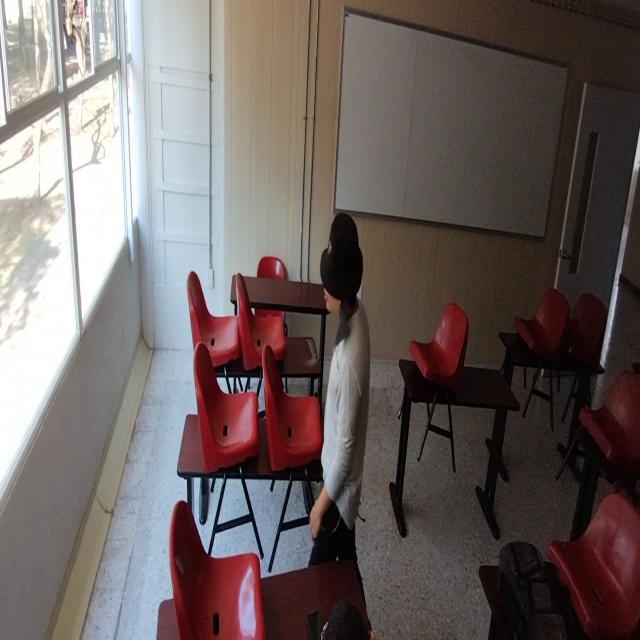adult: (310, 213, 371, 573)
